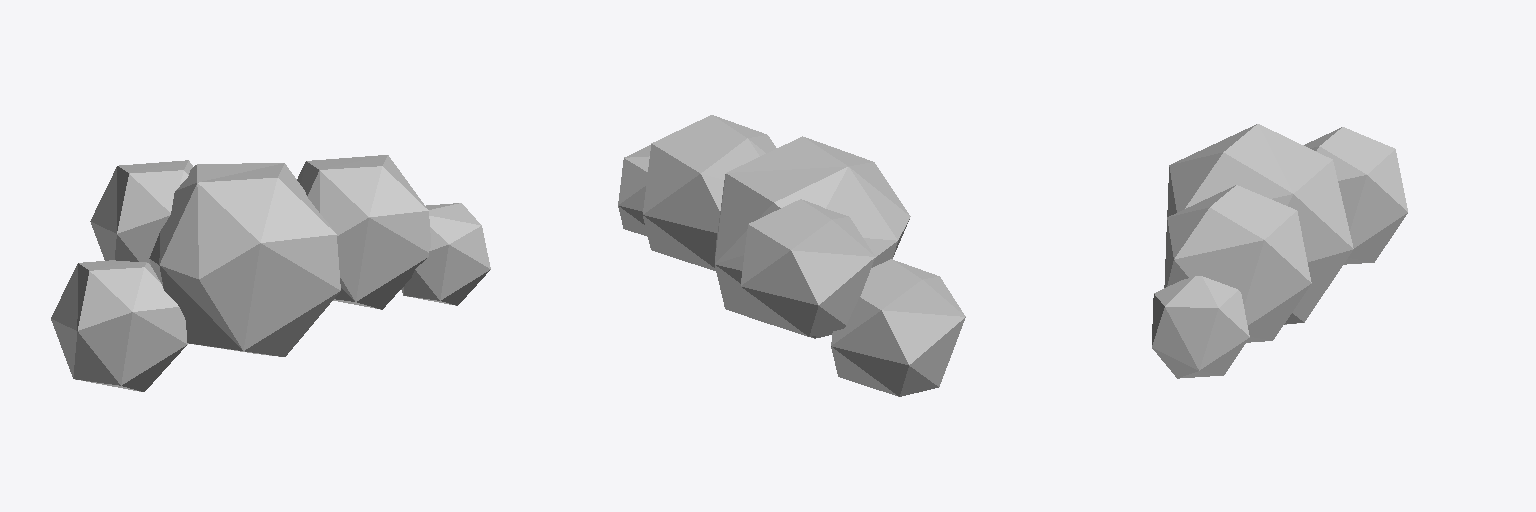
File: Cloud3.obj
The picture shows the model from 3 angles: view 1: azimuth 30°, elevation 25°; view 2: azimuth 150°, elevation 25°; view 3: azimuth 270°, elevation 25°; orthographic projection.
Parts seen in each view (by area): view 1: Sphere.004_Sphere.001; view 2: Sphere.004_Sphere.001; view 3: Sphere.004_Sphere.001.
Boxes of the visible parts, x1,y1,x2,y2 form: Sphere.004_Sphere.001: [51, 155, 490, 391]; Sphere.004_Sphere.001: [618, 115, 965, 396]; Sphere.004_Sphere.001: [1152, 124, 1407, 378].
Bounding box in the file's own units: 6.29 × 3.21 × 3.72.